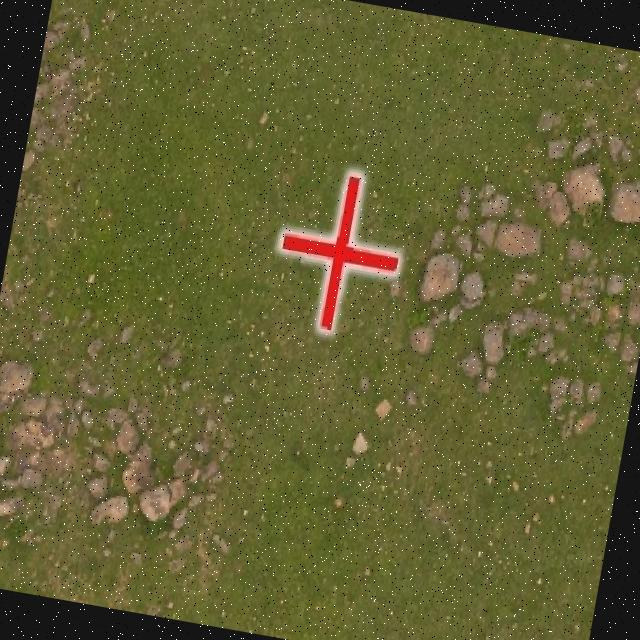x_marker: (266, 162, 411, 338)
